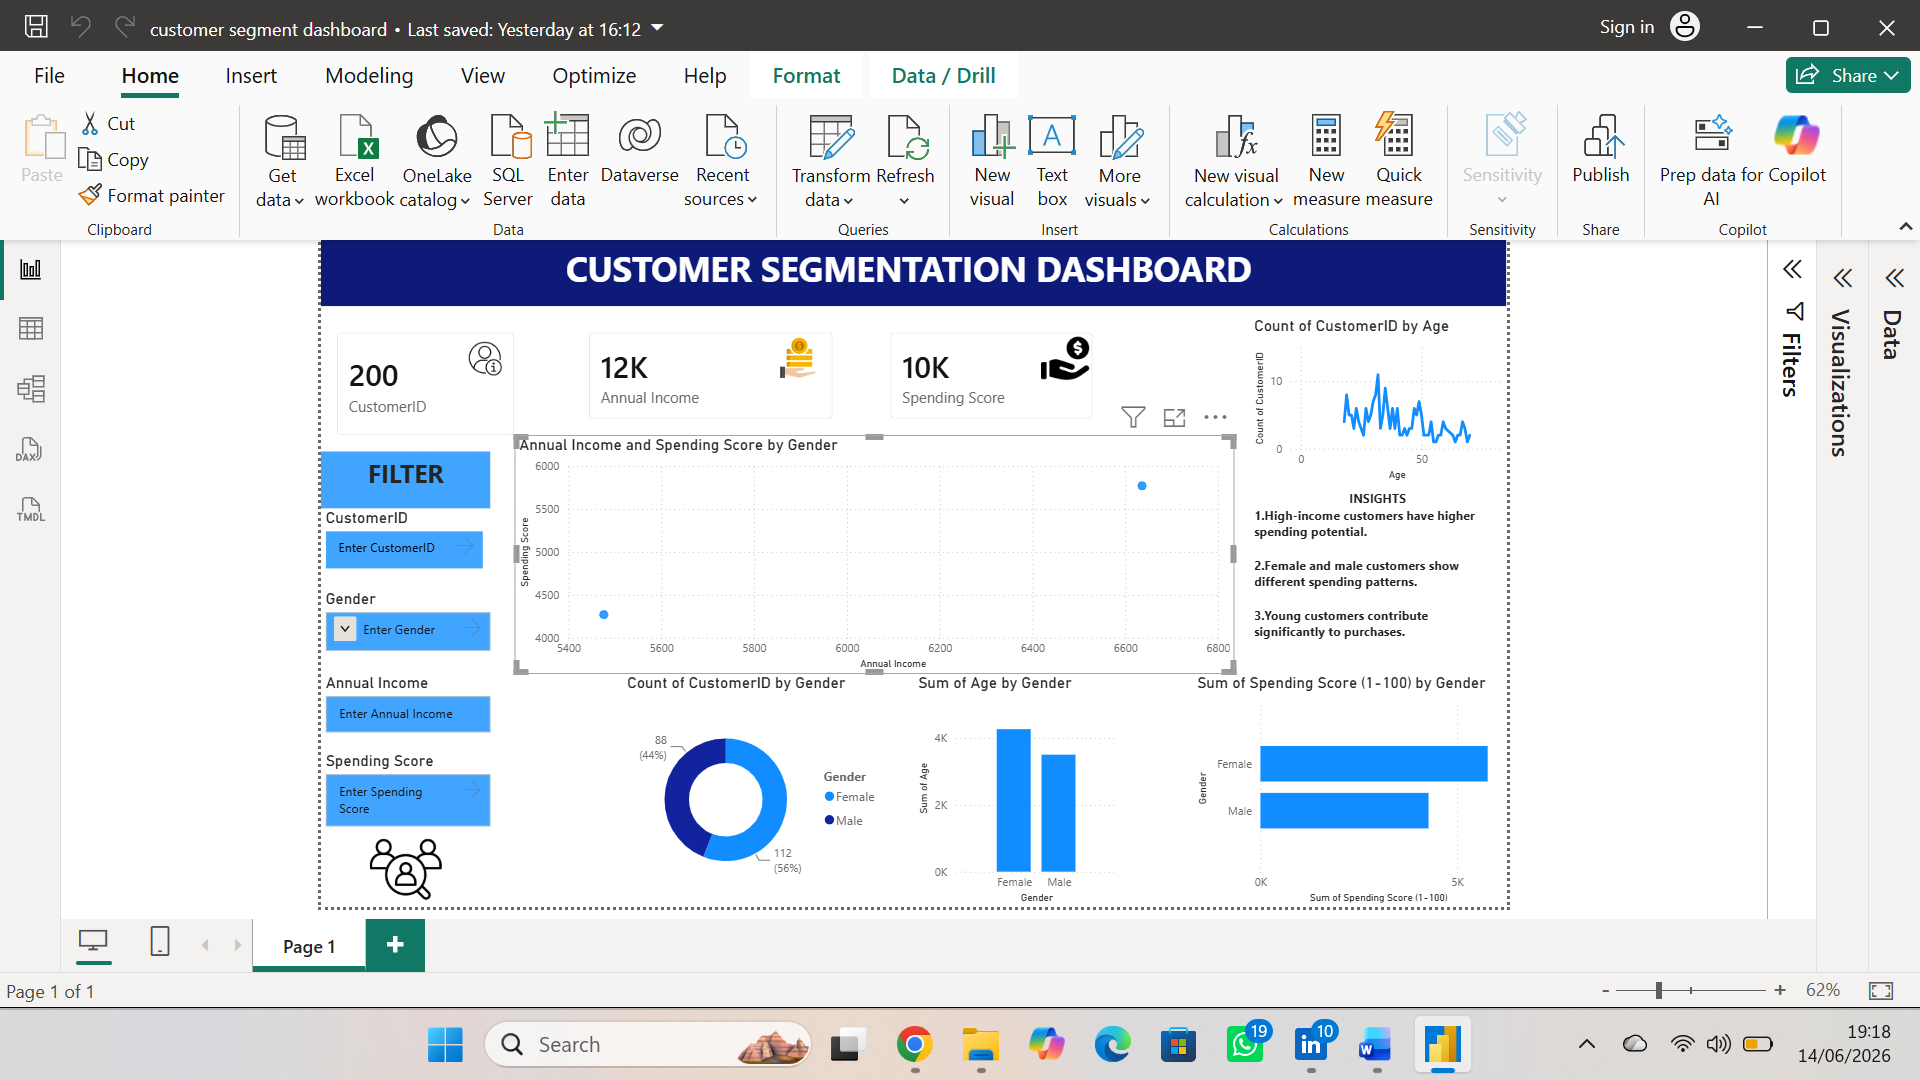

The dashboard page shown, as its layout file describes it:
{"tool":"powerbi","page":{"name":"Page 1","canvas":[1280,720],"ordinal":0},"visuals":[{"type":"cardVisual","fields":{"Data":["Sum(Mall_Customers (1).Annual Income (k$))"]},"box":[272,82.6,297.9,127.9],"z":0},{"type":"cardVisual","fields":{"Data":["Sum(Mall_Customers (1).Spending Score (1-100))"]},"box":[597.5,82.6,252.6,127.9],"z":1000},{"type":"cardVisual","fields":{"Data":["CountNonNull(Mall_Customers (1).CustomerID)"]},"box":[0,82.6,225.1,145.7],"z":2000},{"type":"scatterChart","fields":{"X":["Sum(Mall_Customers (1).Annual Income (k$))"],"Y":["Sum(Mall_Customers (1).Spending Score (1-100))"],"Category":["Mall_Customers (1).Gender"]},"box":[208.9,210.5,777.2,257.5],"z":3000},{"type":"donutChart","fields":{"Category":["Mall_Customers (1).Gender"],"Y":["CountNonNull(Mall_Customers (1).CustomerID)"]},"box":[325.5,468,288.2,252.6],"z":4000},{"type":"barChart","fields":{"Category":["Mall_Customers (1).Gender"],"Y":["Sum(Mall_Customers (1).Spending Score (1-100))"]},"box":[940.8,468,340,252.6],"z":5000},{"type":"columnChart","fields":{"Y":["Sum(Mall_Customers (1).Age)"],"Category":["Mall_Customers (1).Gender"]},"box":[639.6,468,225.1,252.6],"z":6000},{"type":"textSlicer","fields":{"Values":["Mall_Customers (1).Gender"]},"box":[0,377.3,187.8,71.2],"z":7000},{"type":"textSlicer","fields":{"Values":["Mall_Customers (1).CustomerID"]},"box":[0,289.8,179.7,69.6],"z":8000},{"type":"textSlicer","fields":{"Values":["Mall_Customers (1).Annual Income (k$)"]},"box":[0,468,187.8,68],"z":9000},{"type":"textSlicer","fields":{"Values":["Mall_Customers (1).Spending Score (1-100)"]},"box":[0,552.2,187.8,85.8],"z":10000},{"type":"textbox","box":[0,228.3,183,61.5],"z":11000},{"type":"lineChart","fields":{"Y":["CountNonNull(Mall_Customers (1).CustomerID)"],"Category":["Mall_Customers (1).Age"]},"box":[1002.3,82.6,278.5,181.4],"z":12000},{"type":"textbox","box":[1002.3,263.9,276.9,204],"z":13000},{"type":"textbox","box":[0,0,1279.2,71.2],"z":14000},{"type":"image","box":[145.7,100.4,63.1,55.1],"z":14001},{"type":"image","box":[484.1,100.4,64.8,55.1],"z":14002},{"type":"image","box":[777.2,100.4,51.8,55.1],"z":14003},{"type":"image","box":[4.9,638,173.3,82.6],"z":14004}]}

Visuals, with their boxes on the page's 1280x720 design canvas (x1, y1, x2, y2). These are canvas units, not pixel positions in the 1920x1080 screenshot, which may show the page scaled, cropped or inside an application window:
cardVisual - Sum(Mall_Customers (1).Annual Income (k$)): (x1=272, y1=83, x2=570, y2=210)
cardVisual - Sum(Mall_Customers (1).Spending Score (1-100)): (x1=598, y1=83, x2=850, y2=210)
cardVisual - CountNonNull(Mall_Customers (1).CustomerID): (x1=0, y1=83, x2=225, y2=228)
scatterChart - Sum(Mall_Customers (1).Annual Income (k$)) x Sum(Mall_Customers (1).Spending Score (1-100)): (x1=209, y1=210, x2=986, y2=468)
donutChart - Mall_Customers (1).Gender x CountNonNull(Mall_Customers (1).CustomerID): (x1=326, y1=468, x2=614, y2=721)
barChart - Mall_Customers (1).Gender x Sum(Mall_Customers (1).Spending Score (1-100)): (x1=941, y1=468, x2=1281, y2=721)
columnChart - Sum(Mall_Customers (1).Age) x Mall_Customers (1).Gender: (x1=640, y1=468, x2=865, y2=721)
textSlicer - Mall_Customers (1).Gender: (x1=0, y1=377, x2=188, y2=448)
textSlicer - Mall_Customers (1).CustomerID: (x1=0, y1=290, x2=180, y2=359)
textSlicer - Mall_Customers (1).Annual Income (k$): (x1=0, y1=468, x2=188, y2=536)
textSlicer - Mall_Customers (1).Spending Score (1-100): (x1=0, y1=552, x2=188, y2=638)
textbox: (x1=0, y1=228, x2=183, y2=290)
lineChart - CountNonNull(Mall_Customers (1).CustomerID) x Mall_Customers (1).Age: (x1=1002, y1=83, x2=1281, y2=264)
textbox: (x1=1002, y1=264, x2=1279, y2=468)
textbox: (x1=0, y1=0, x2=1279, y2=71)
image: (x1=146, y1=100, x2=209, y2=156)
image: (x1=484, y1=100, x2=549, y2=156)
image: (x1=777, y1=100, x2=829, y2=156)
image: (x1=5, y1=638, x2=178, y2=721)
